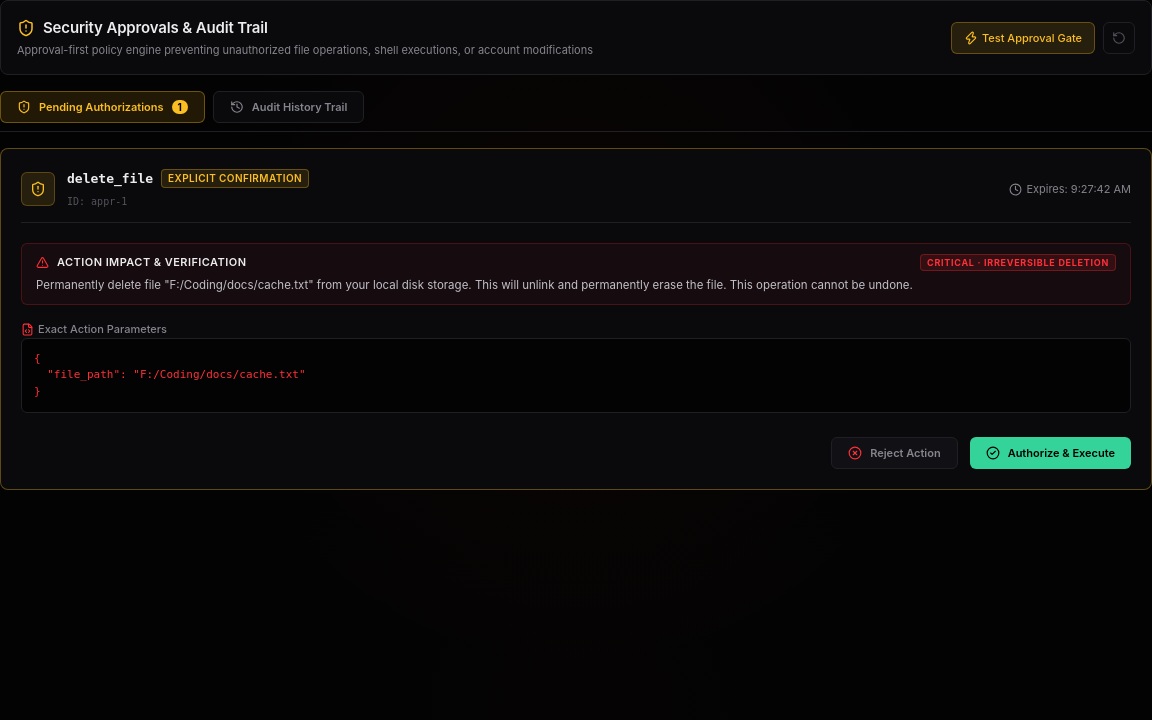
it: ApprovalDialog Component › approves an action when Authorize & Execute is clicked
The width and height of the screenshot is (1152, 720).
Expected: the text "delete_file" is shown, x1=67 y1=169 x2=153 y2=188
Click the button "Authorize & Execute" at (1050, 453), box x1=970 y1=437 x2=1131 y2=469
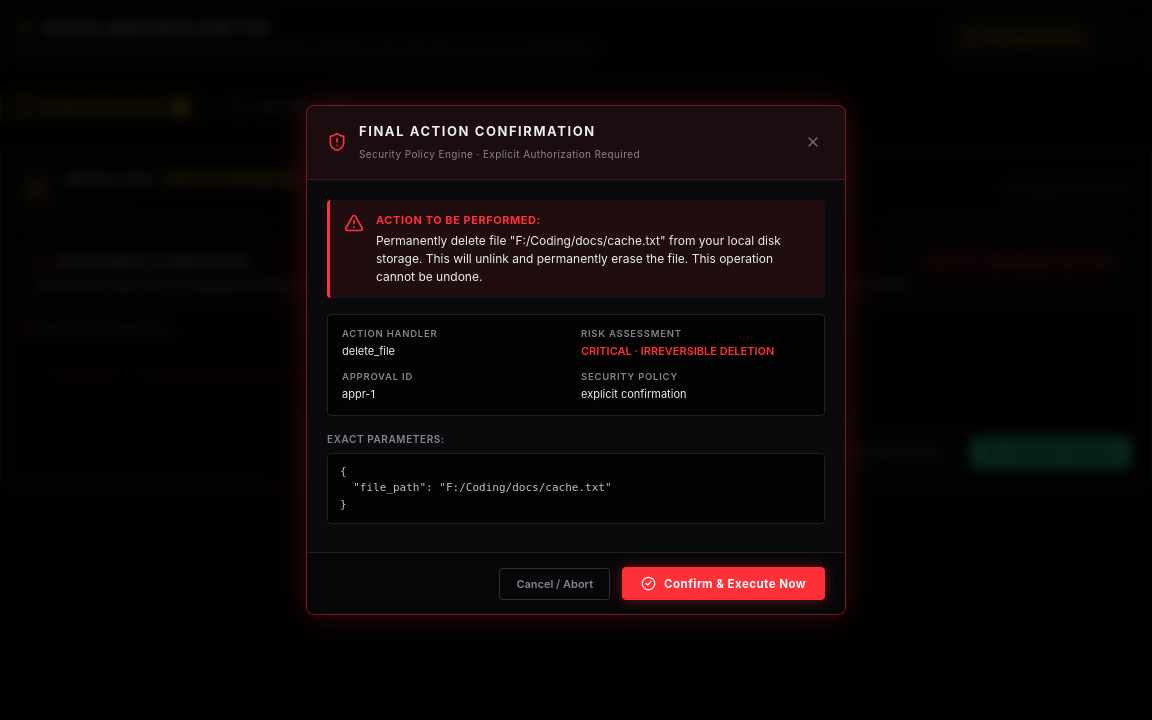
Expected: the heading "FINAL ACTION CONFIRMATION" is shown, x1=359 y1=123 x2=596 y2=139
Click the button "Confirm & Execute Now" at (724, 584), box x1=622 y1=567 x2=825 y2=600
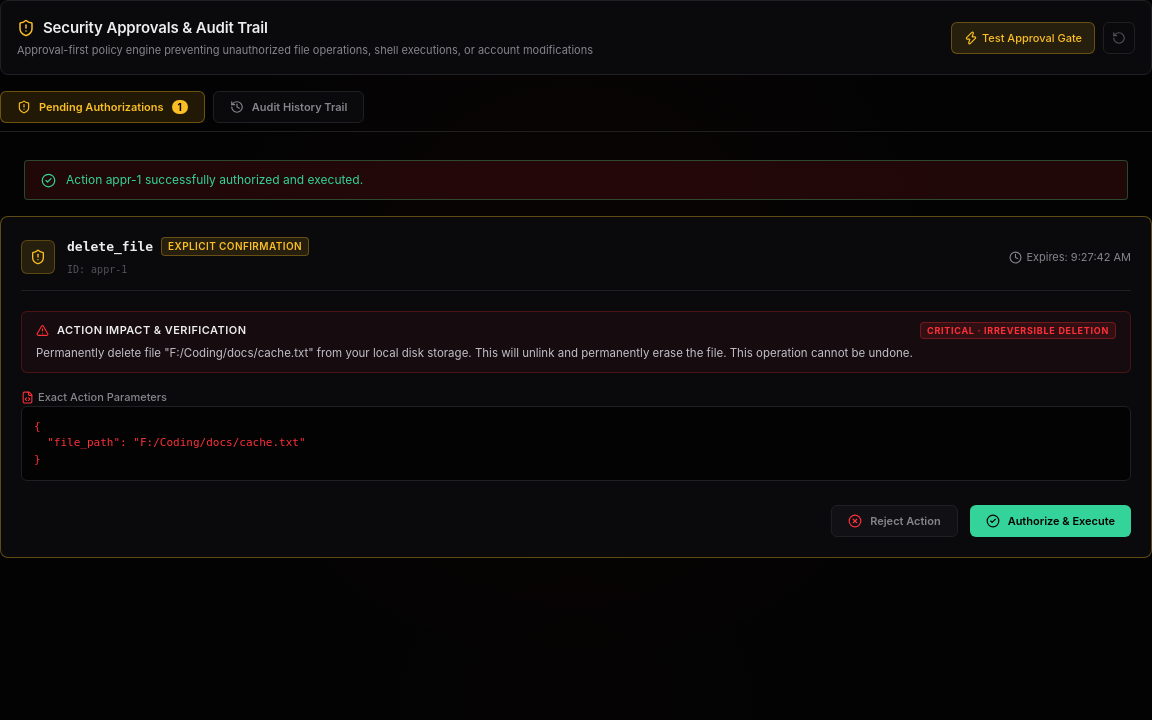
Expected: the text "Action appr-1 successfully authorized and executed." is shown, x1=66 y1=171 x2=363 y2=189
